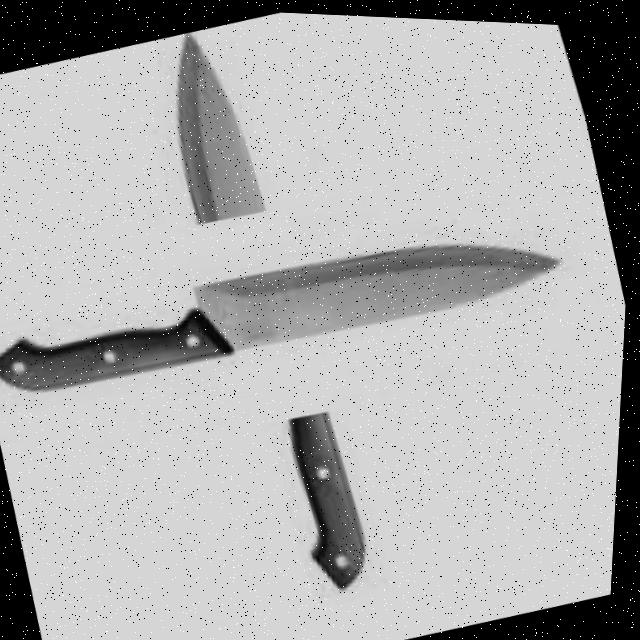knife: (129, 11, 407, 609), (0, 196, 571, 432)
